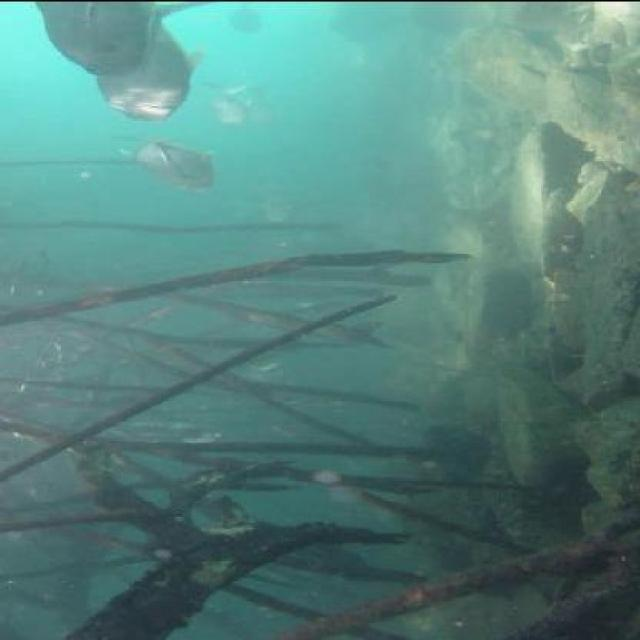Caranx_sexfasciatus_juvenile: (85, 0, 213, 120), (30, 0, 161, 75), (107, 132, 231, 195), (234, 75, 286, 136), (202, 74, 250, 128)
